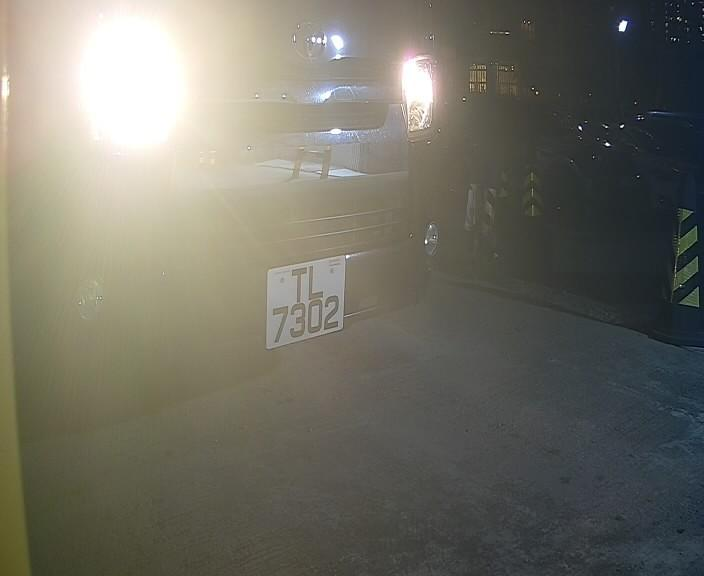privatecar: (2, 6, 452, 396)
